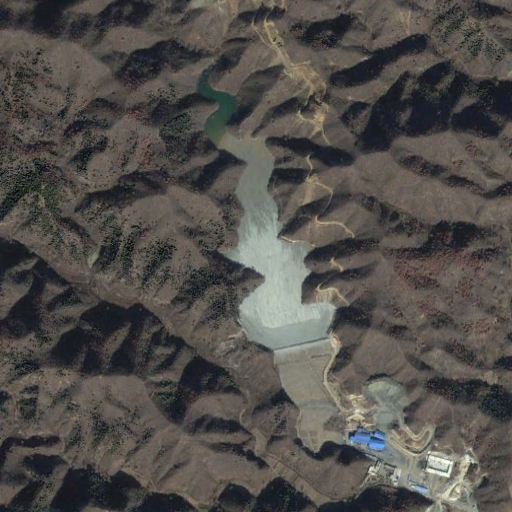tp: (194, 62, 340, 405)
